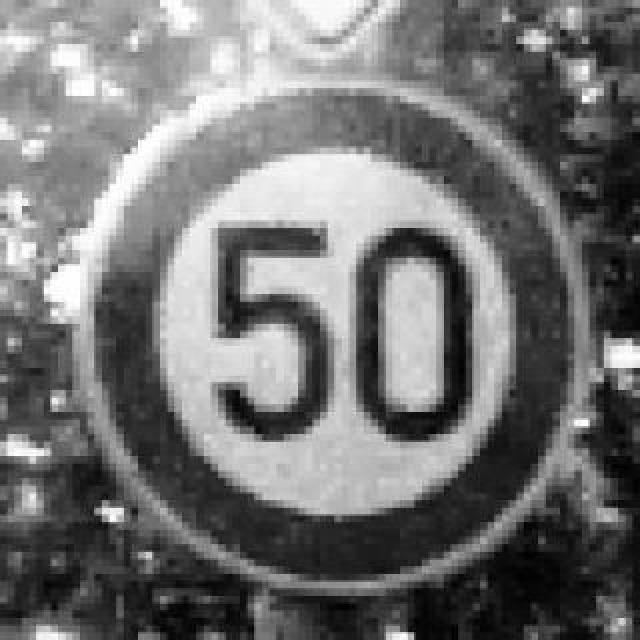50 kph: (66, 66, 582, 582)
